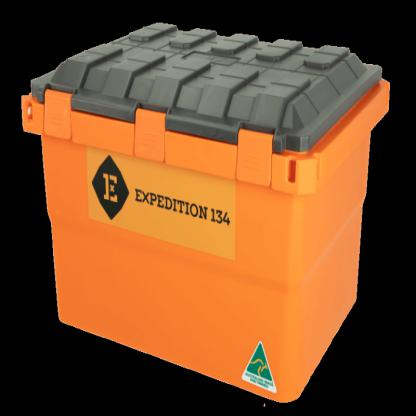plastic_box: (16, 10, 395, 408)
